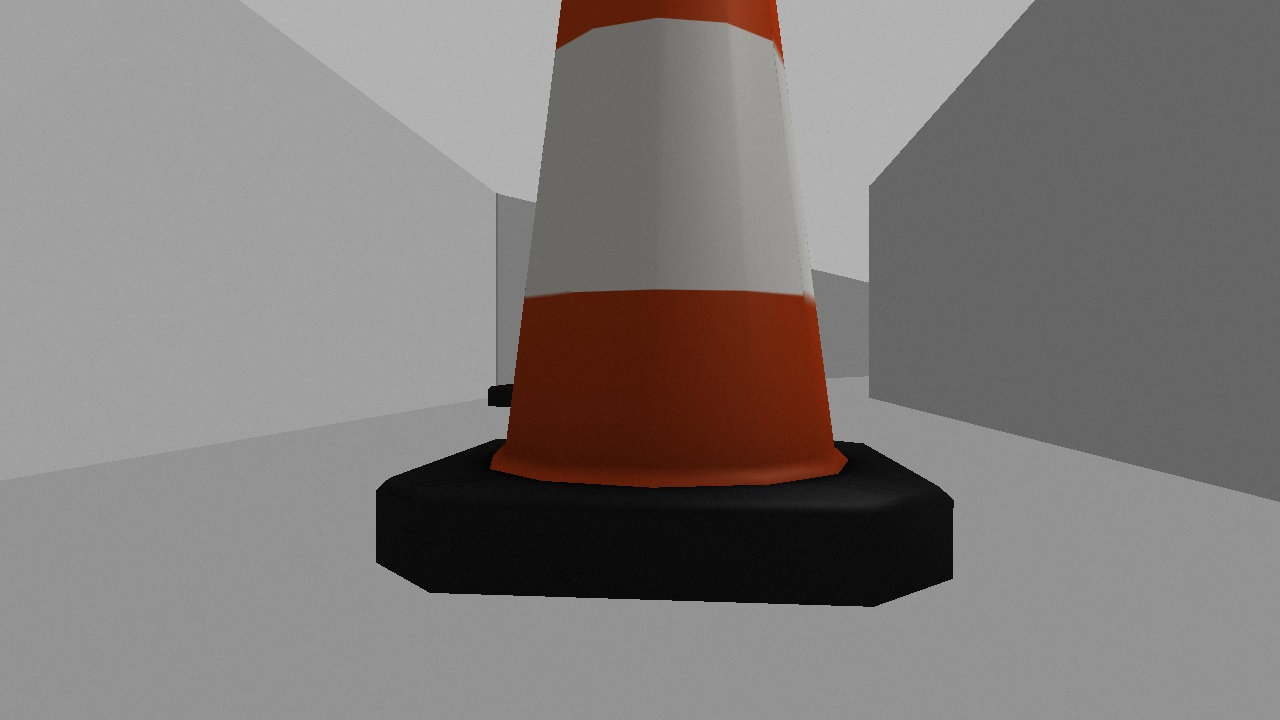barricade: (349, 1, 972, 641)
